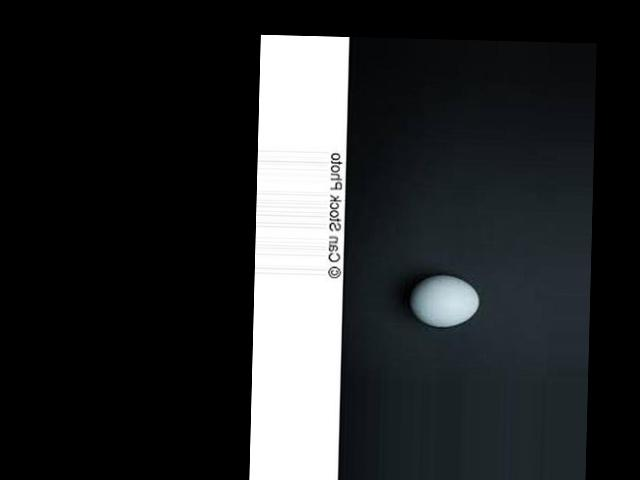egg: (409, 274, 480, 329)
